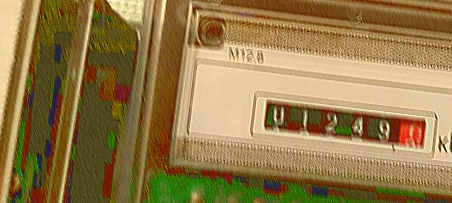0: (269, 103, 285, 125)
1: (296, 107, 310, 129)
2: (320, 111, 339, 134)
4: (349, 114, 365, 135)
7: (403, 118, 419, 139)
9: (375, 119, 390, 142)
screen: (245, 88, 441, 160)
